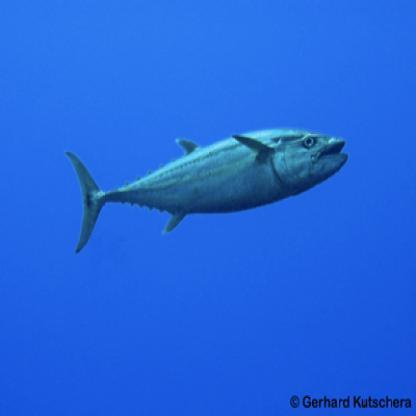Bio: (64, 123, 352, 253)
